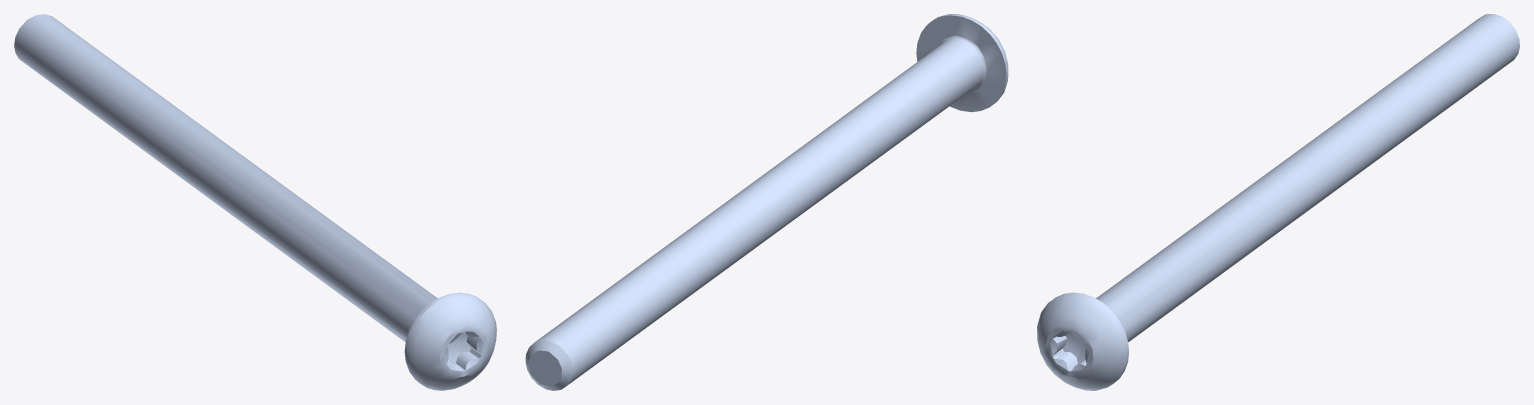
File: _8-32_x_2_500_Star_Drive_Screw__276-8016_.glb
3 renders of one model, left to right at view 1: azimuth 30°, elevation 25°; view 2: azimuth 150°, elevation 25°; view 3: azimuth 330°, elevation 25°, orthographic.
Visible parts, largest first — view 1: #8-32 x 2.500 Star Drive Screw (276-8016); view 2: #8-32 x 2.500 Star Drive Screw (276-8016); view 3: #8-32 x 2.500 Star Drive Screw (276-8016).
Part boxes in pixels (<box>): #8-32 x 2.500 Star Drive Screw (276-8016): <box>14,14,496,390</box>; #8-32 x 2.500 Star Drive Screw (276-8016): <box>525,14,1008,390</box>; #8-32 x 2.500 Star Drive Screw (276-8016): <box>1037,14,1519,390</box>.
Bounding box in the file's own units: 0.3125 × 0.3127 × 2.59.
